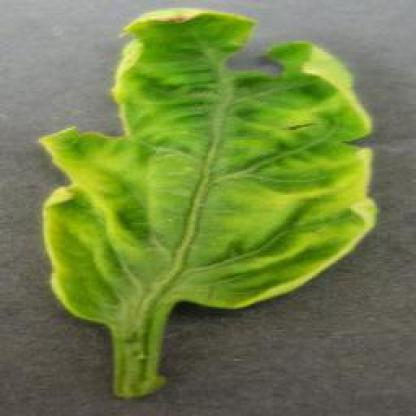good leaf: (18, 7, 388, 405)
